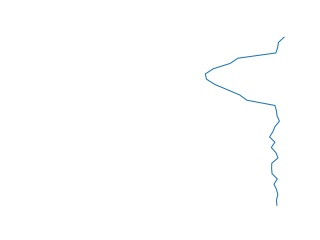distalBar: (198, 36, 288, 206)
